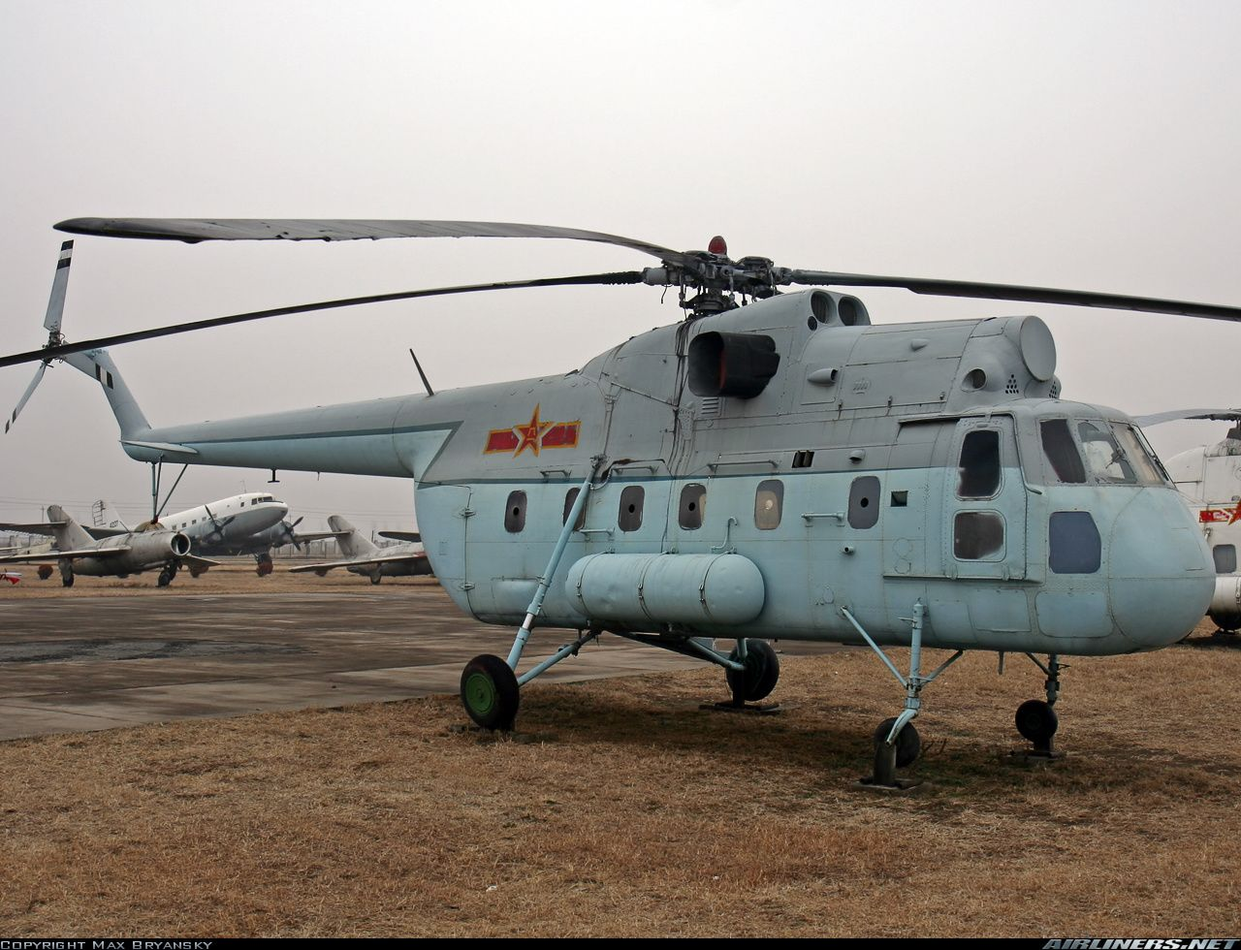military drone: (0, 217, 1241, 785)
